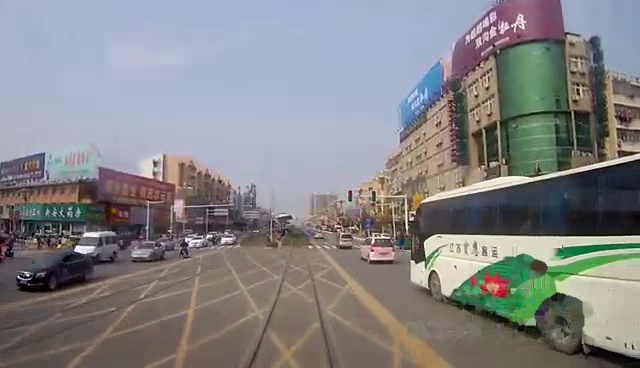bus: (408, 154, 640, 368)
car: (14, 250, 95, 292), (73, 230, 122, 263), (356, 233, 398, 265), (132, 240, 163, 265)
motorcycle: (179, 239, 189, 260)
